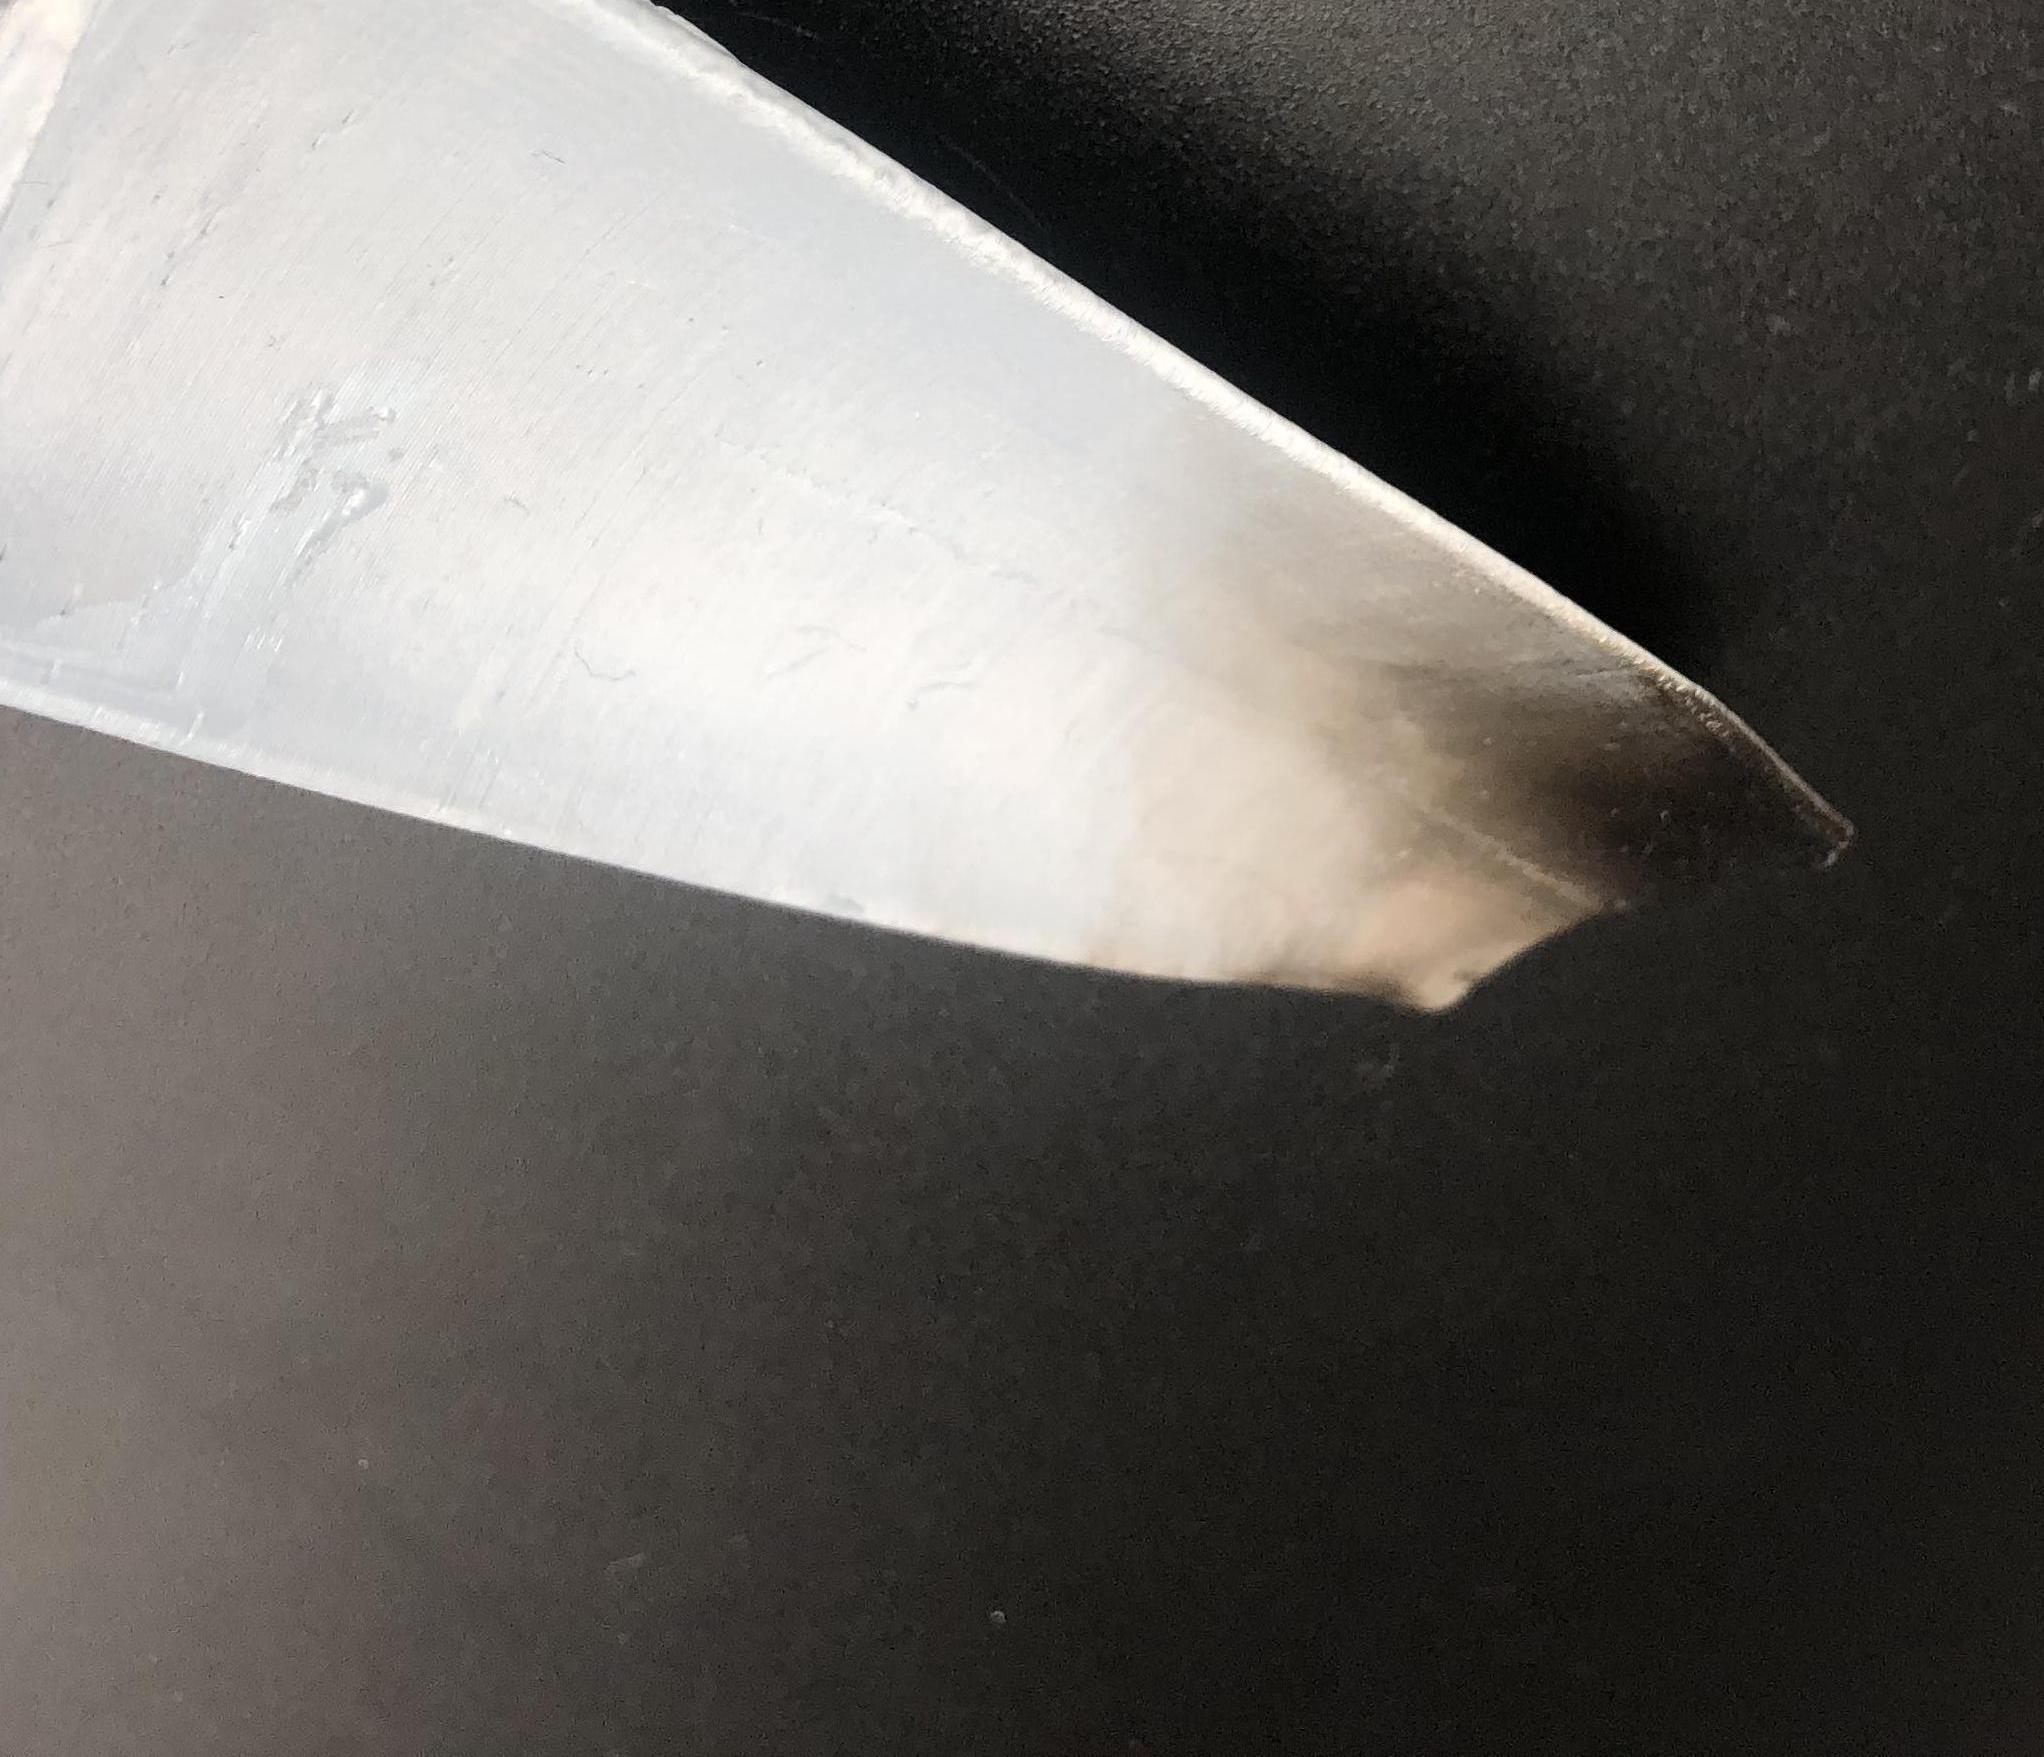ablation: (1411, 645, 1797, 904)
